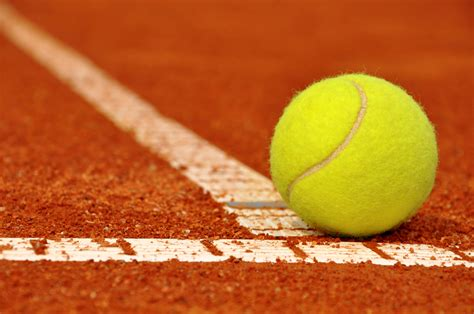tennis_ball: (267, 70, 441, 238)
